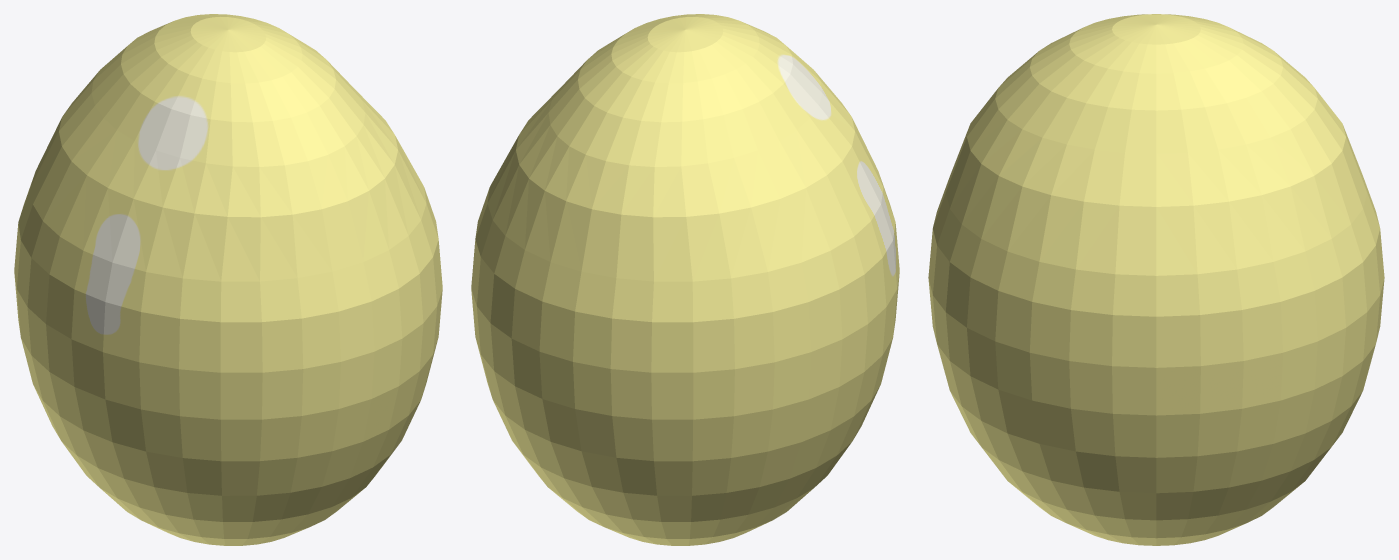
File: egg.obj
3 renders of one model, left to right at view 1: azimuth 30°, elevation 25°; view 2: azimuth 150°, elevation 25°; view 3: azimuth 270°, elevation 25°, orthographic.
Visible parts, largest first — view 1: 球; view 2: 球; view 3: 球.
Boxes of the visible parts, x1,y1,x2,y2 form: 球: (14,14,442,545); 球: (471,14,899,545); 球: (928,14,1384,545).
Bounding box in the file's own units: 2 × 2.62 × 2.14.
